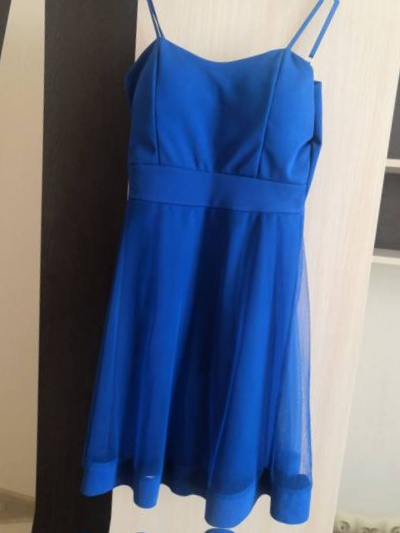Dress: (36, 12, 369, 529), (0, 520, 319, 533)
